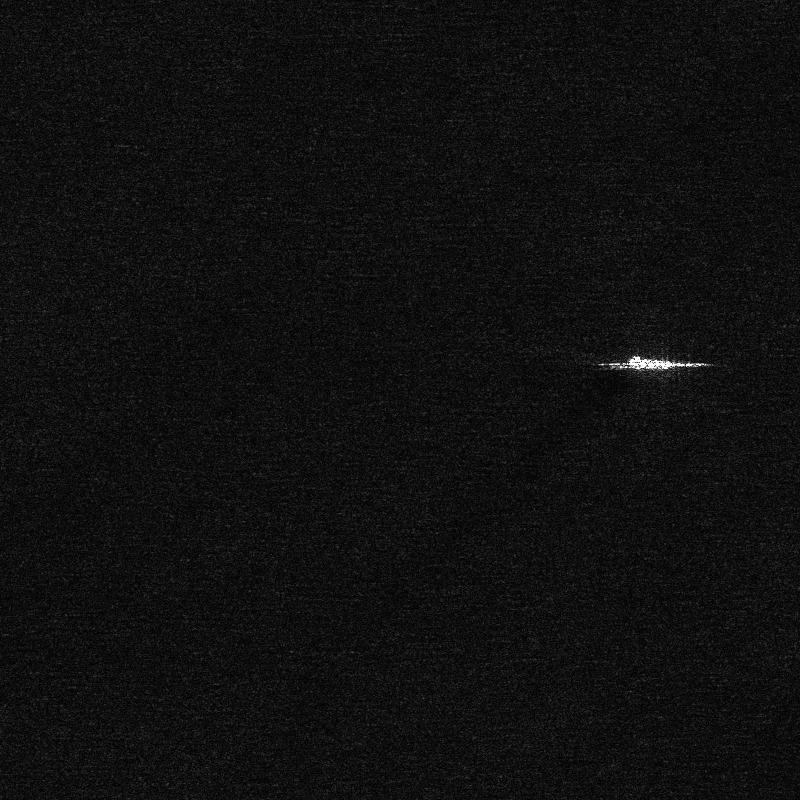ship: (598, 353, 707, 370)
